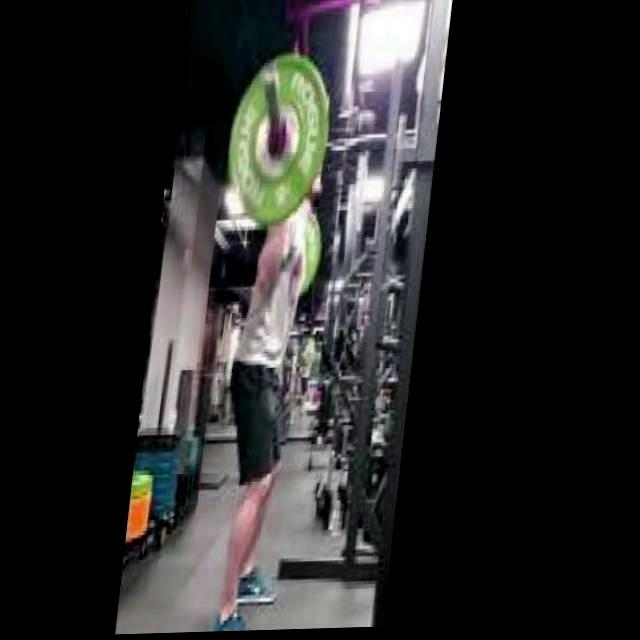barbell: (212, 45, 345, 233)
